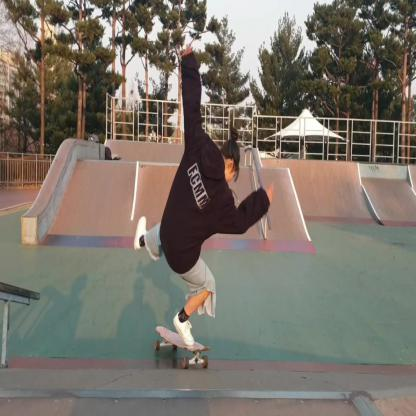Fall_Down: (131, 45, 275, 352)
